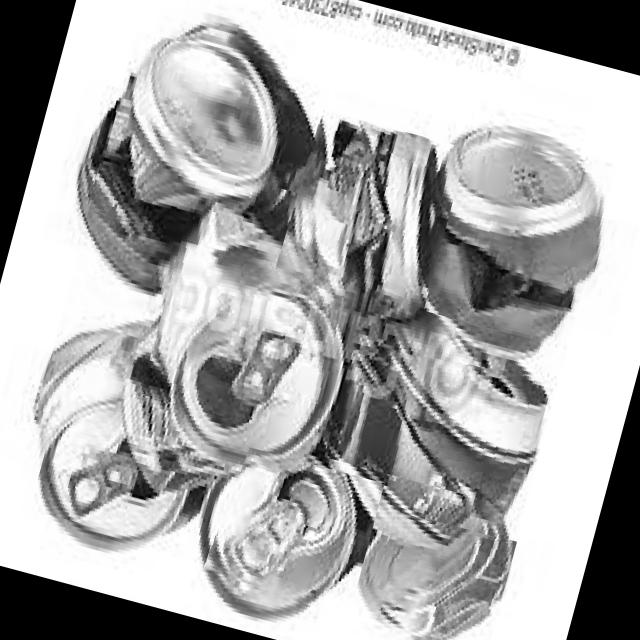Cans: (10, 316, 234, 550), (84, 28, 300, 258), (138, 234, 354, 439), (422, 130, 614, 348), (323, 327, 545, 506), (269, 107, 454, 320), (198, 442, 384, 619), (356, 505, 516, 640)
